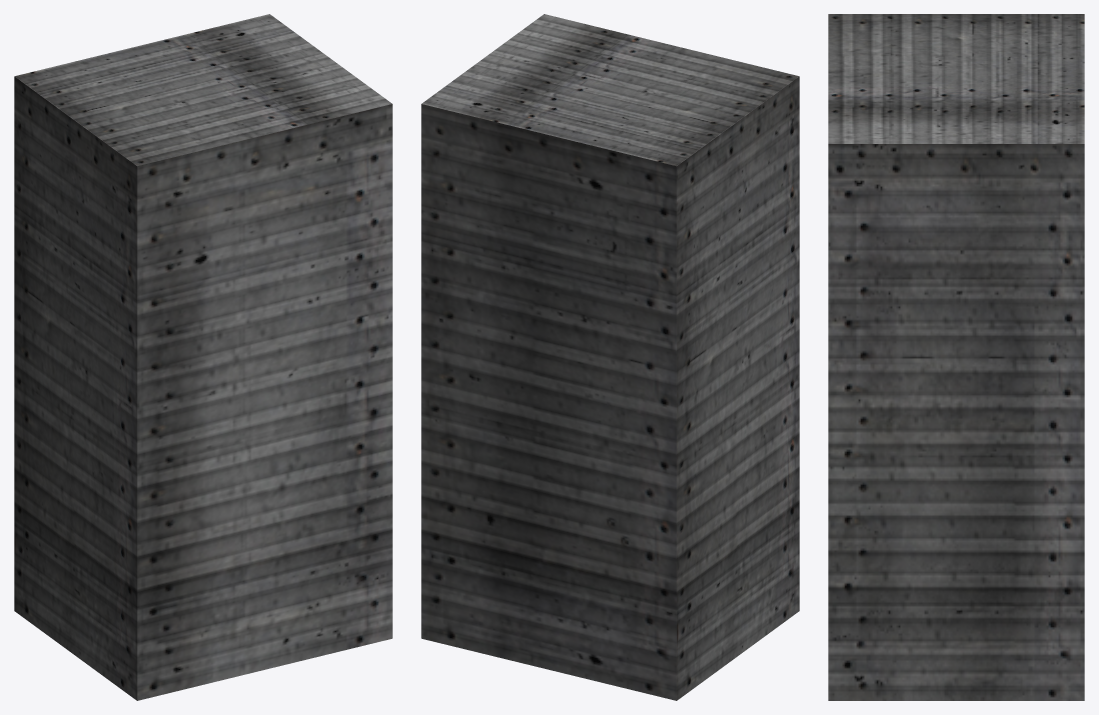
Rendered from Wall2.fbx.
3 renders of one model, left to right at view 1: azimuth 30°, elevation 25°; view 2: azimuth 150°, elevation 25°; view 3: azimuth 270°, elevation 25°, orthographic. The views are drawn at different scales.
Visible parts, largest first — view 1: Wall3; view 2: Wall3; view 3: Wall3.
Part boxes in pixels (left/top/right/bottom): Wall3: left=14, top=14, right=392, bottom=700; Wall3: left=421, top=14, right=799, bottom=700; Wall3: left=828, top=14, right=1084, bottom=700.
Size of the model in its own units: 6 by 12 by 5.
